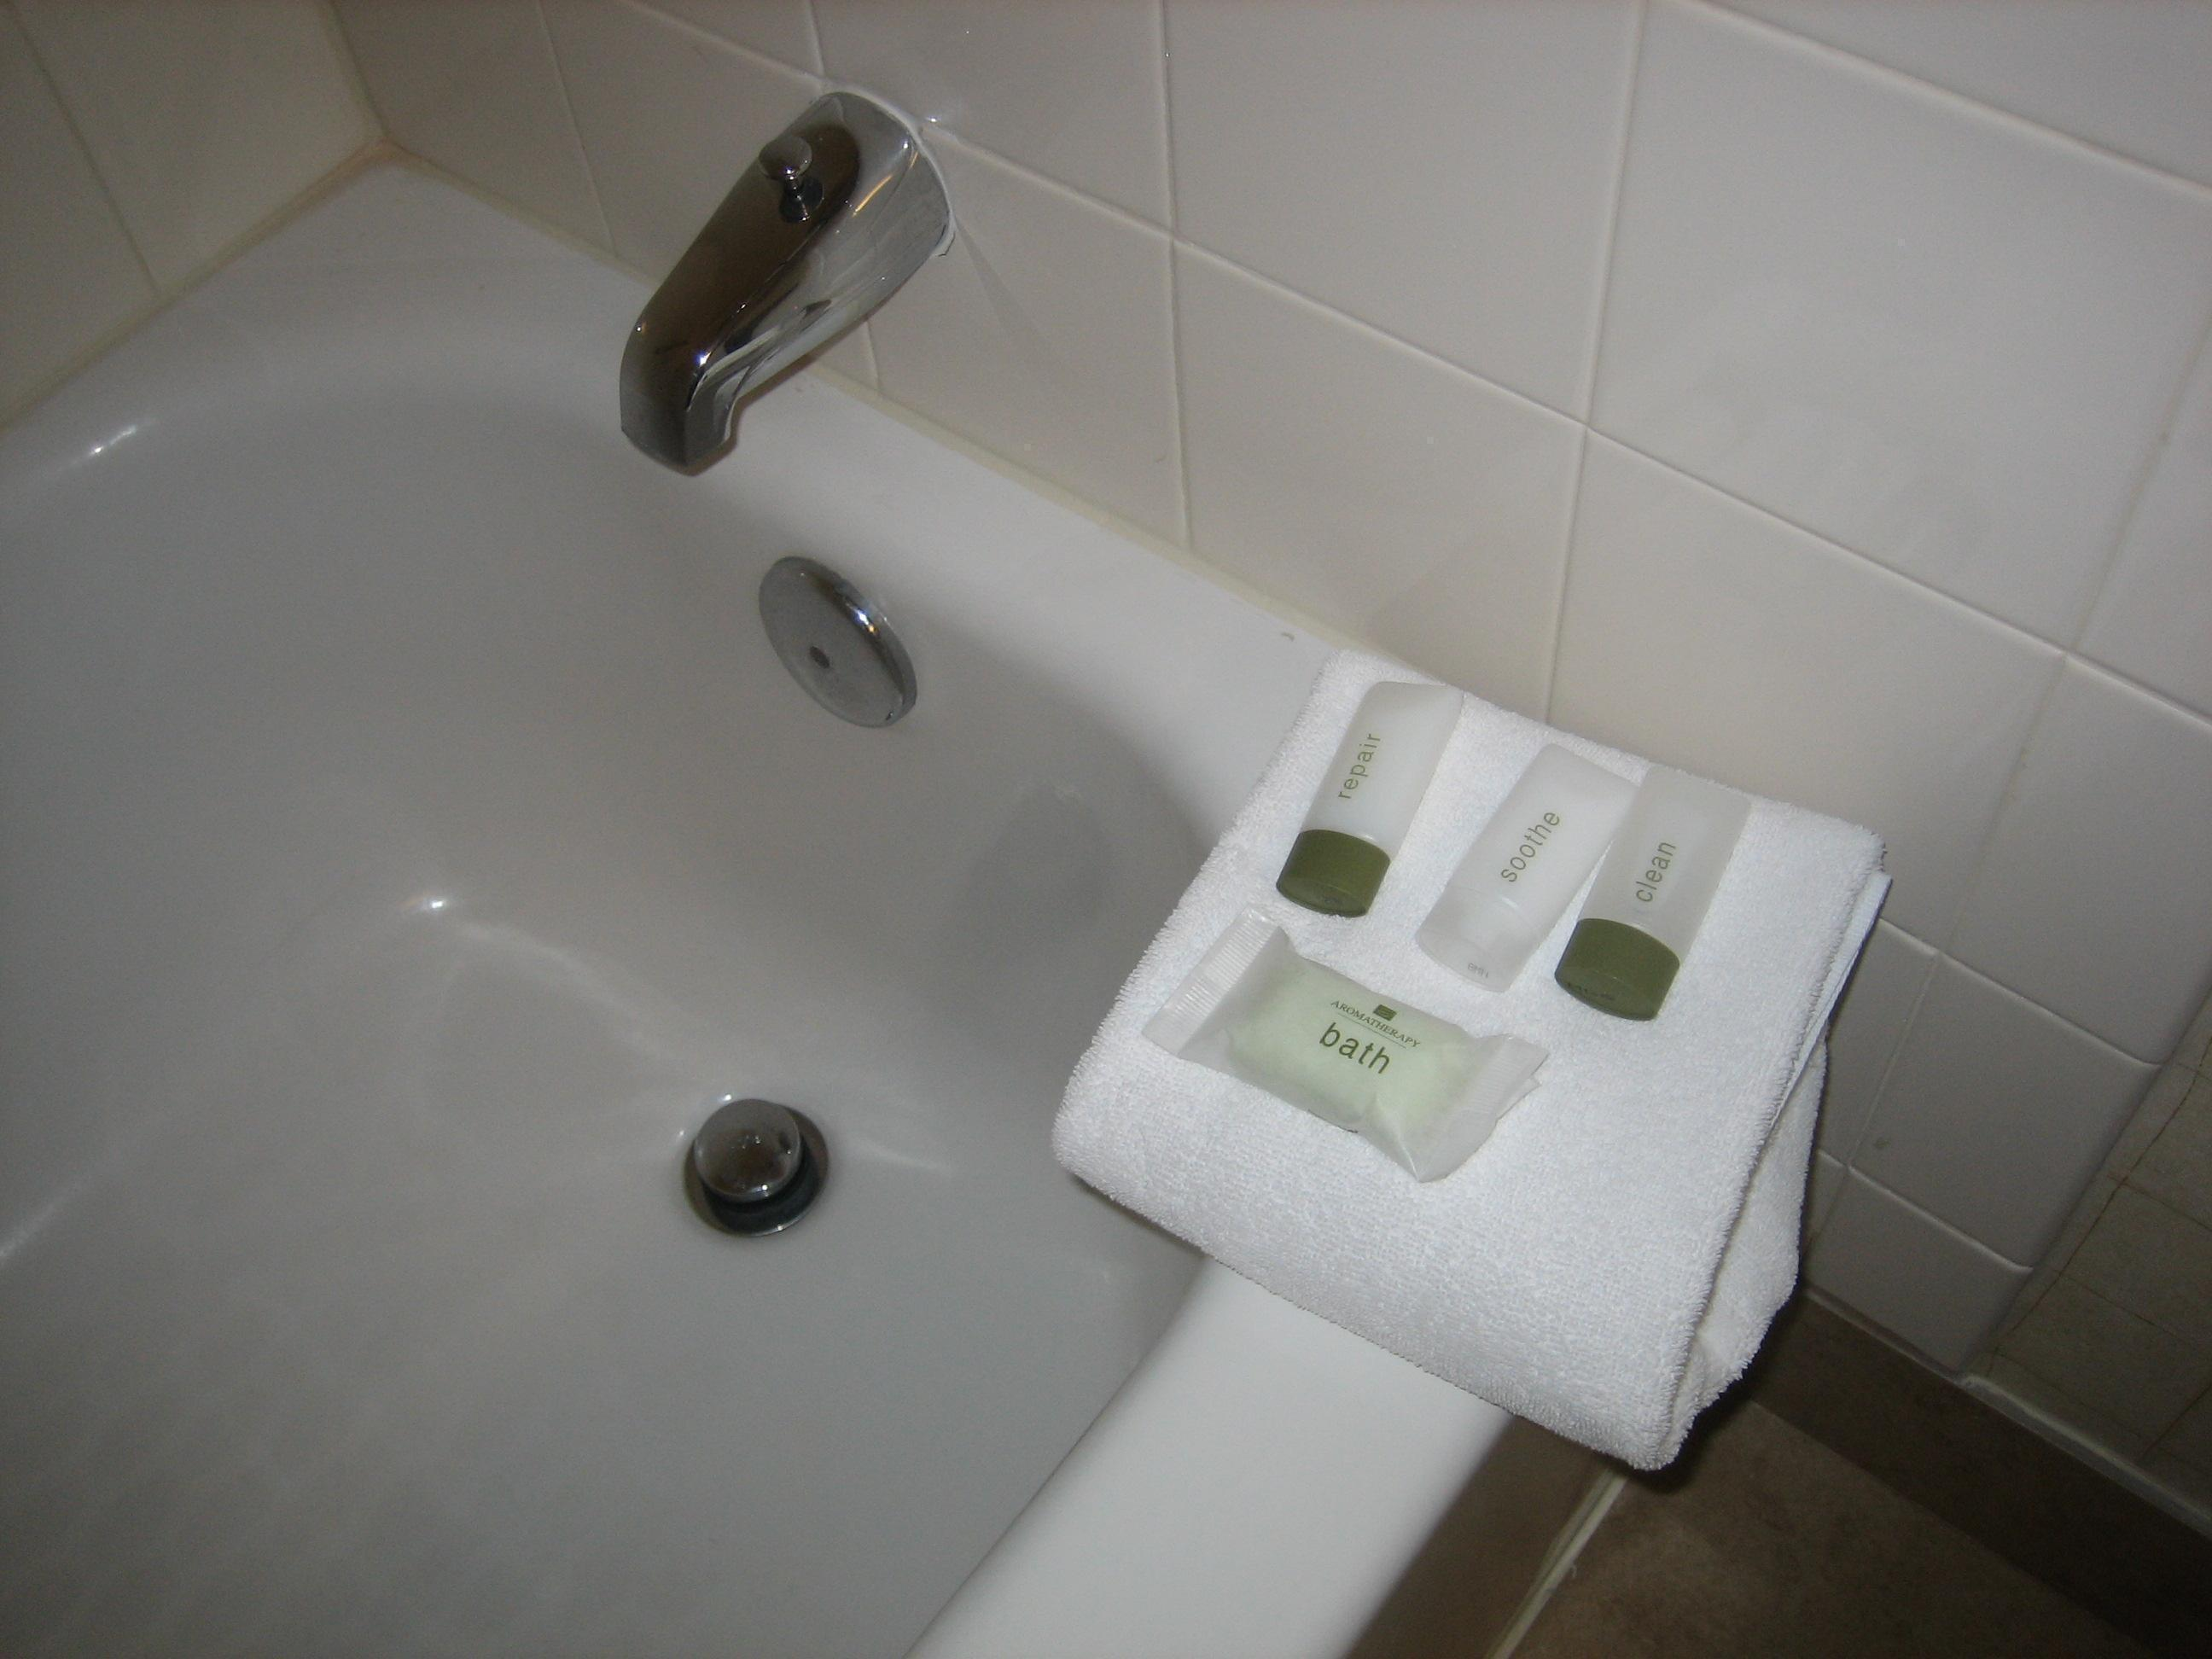Ducha: (9, 17, 944, 1659)
Sanitario: (916, 1321, 1514, 1659)
